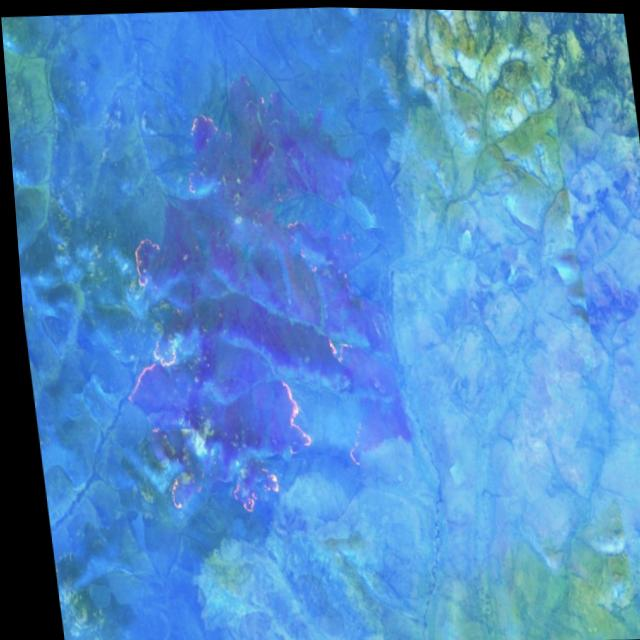fire: (107, 339, 317, 526), (318, 326, 371, 486), (170, 91, 228, 189), (115, 217, 170, 299), (275, 207, 329, 288)
